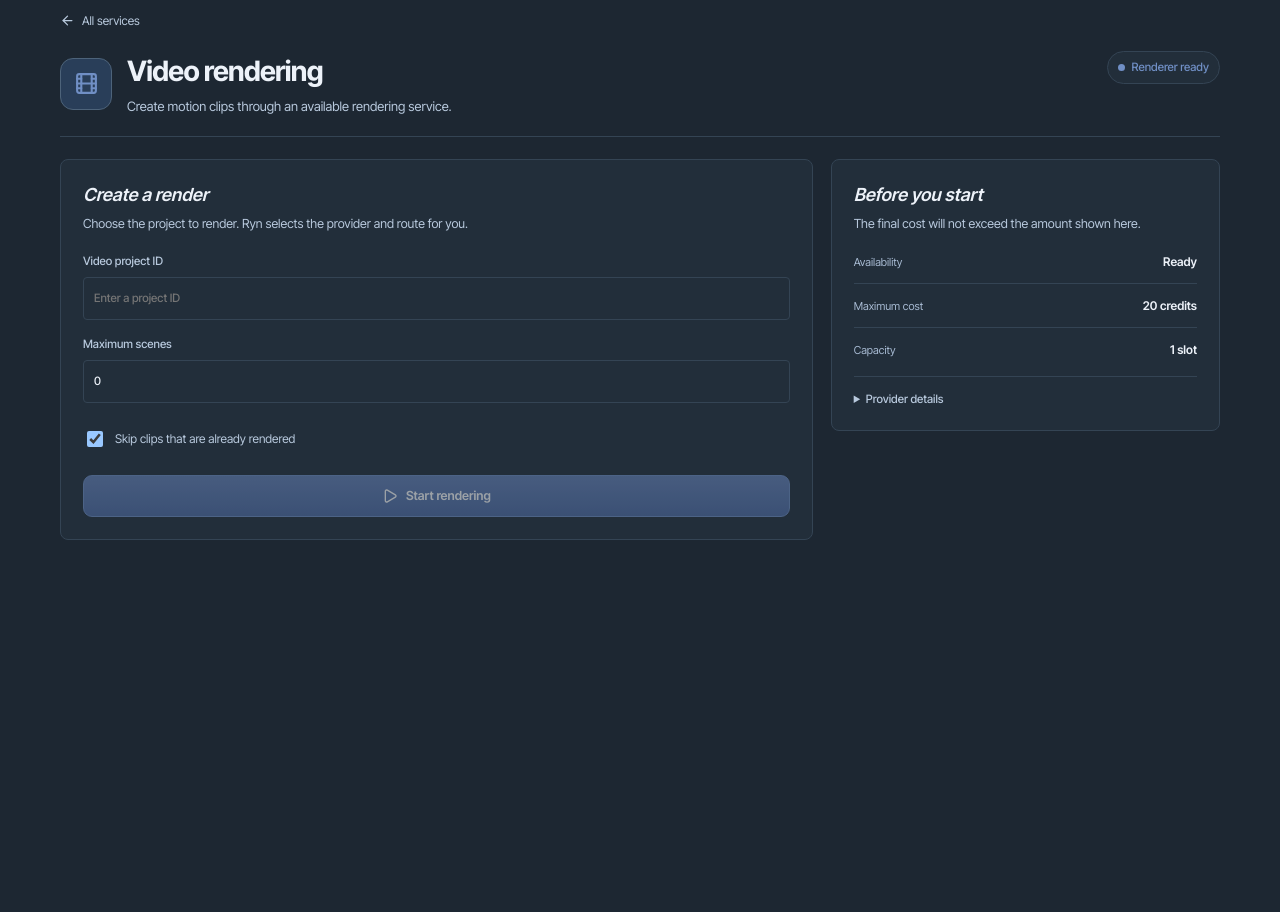
Test: Service-specific experiences › submits a video workflow without asking the user to choose a provider
The width and height of the screenshot is (1280, 912).
Expected: the text "Renderer ready" is shown, [1106, 51, 1220, 84]
Step 1. Type "launch-project-7" into the field labelled "Video project ID" → (436, 298), box [83, 277, 790, 320]
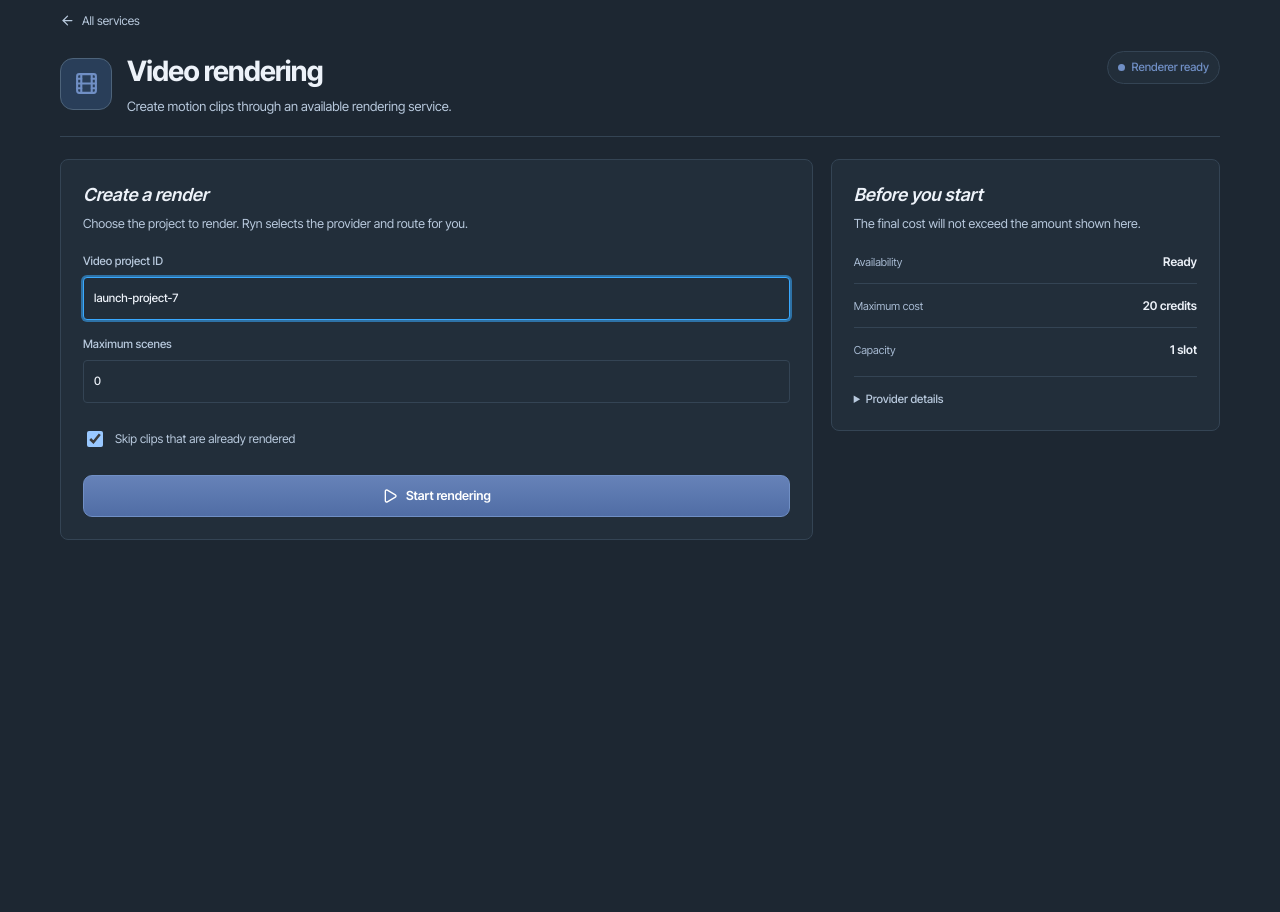
Step 2. Click the button "Start rendering" → (436, 496), box [83, 475, 790, 517]
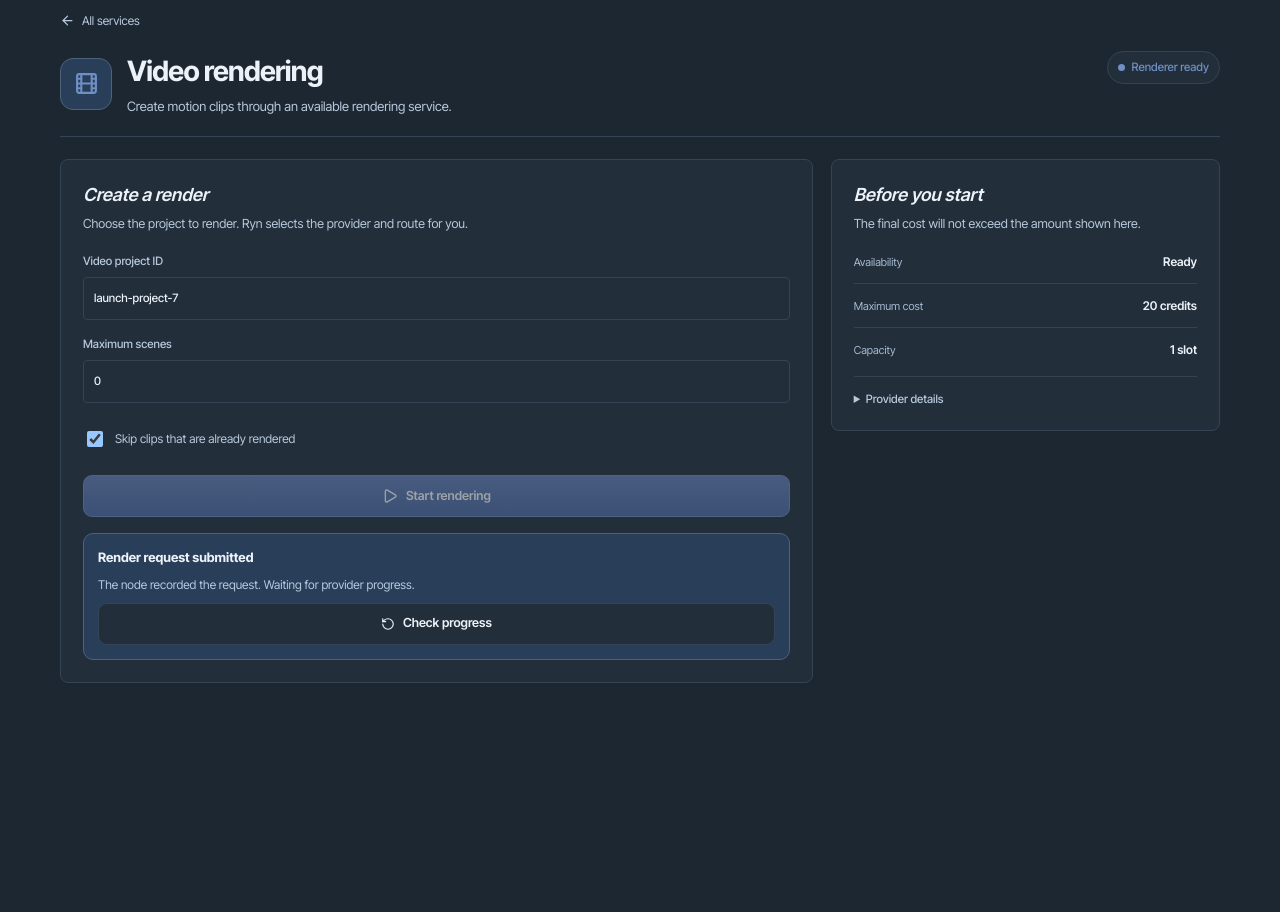
Now the text "Render request submitted" is shown, box [98, 549, 253, 565]
